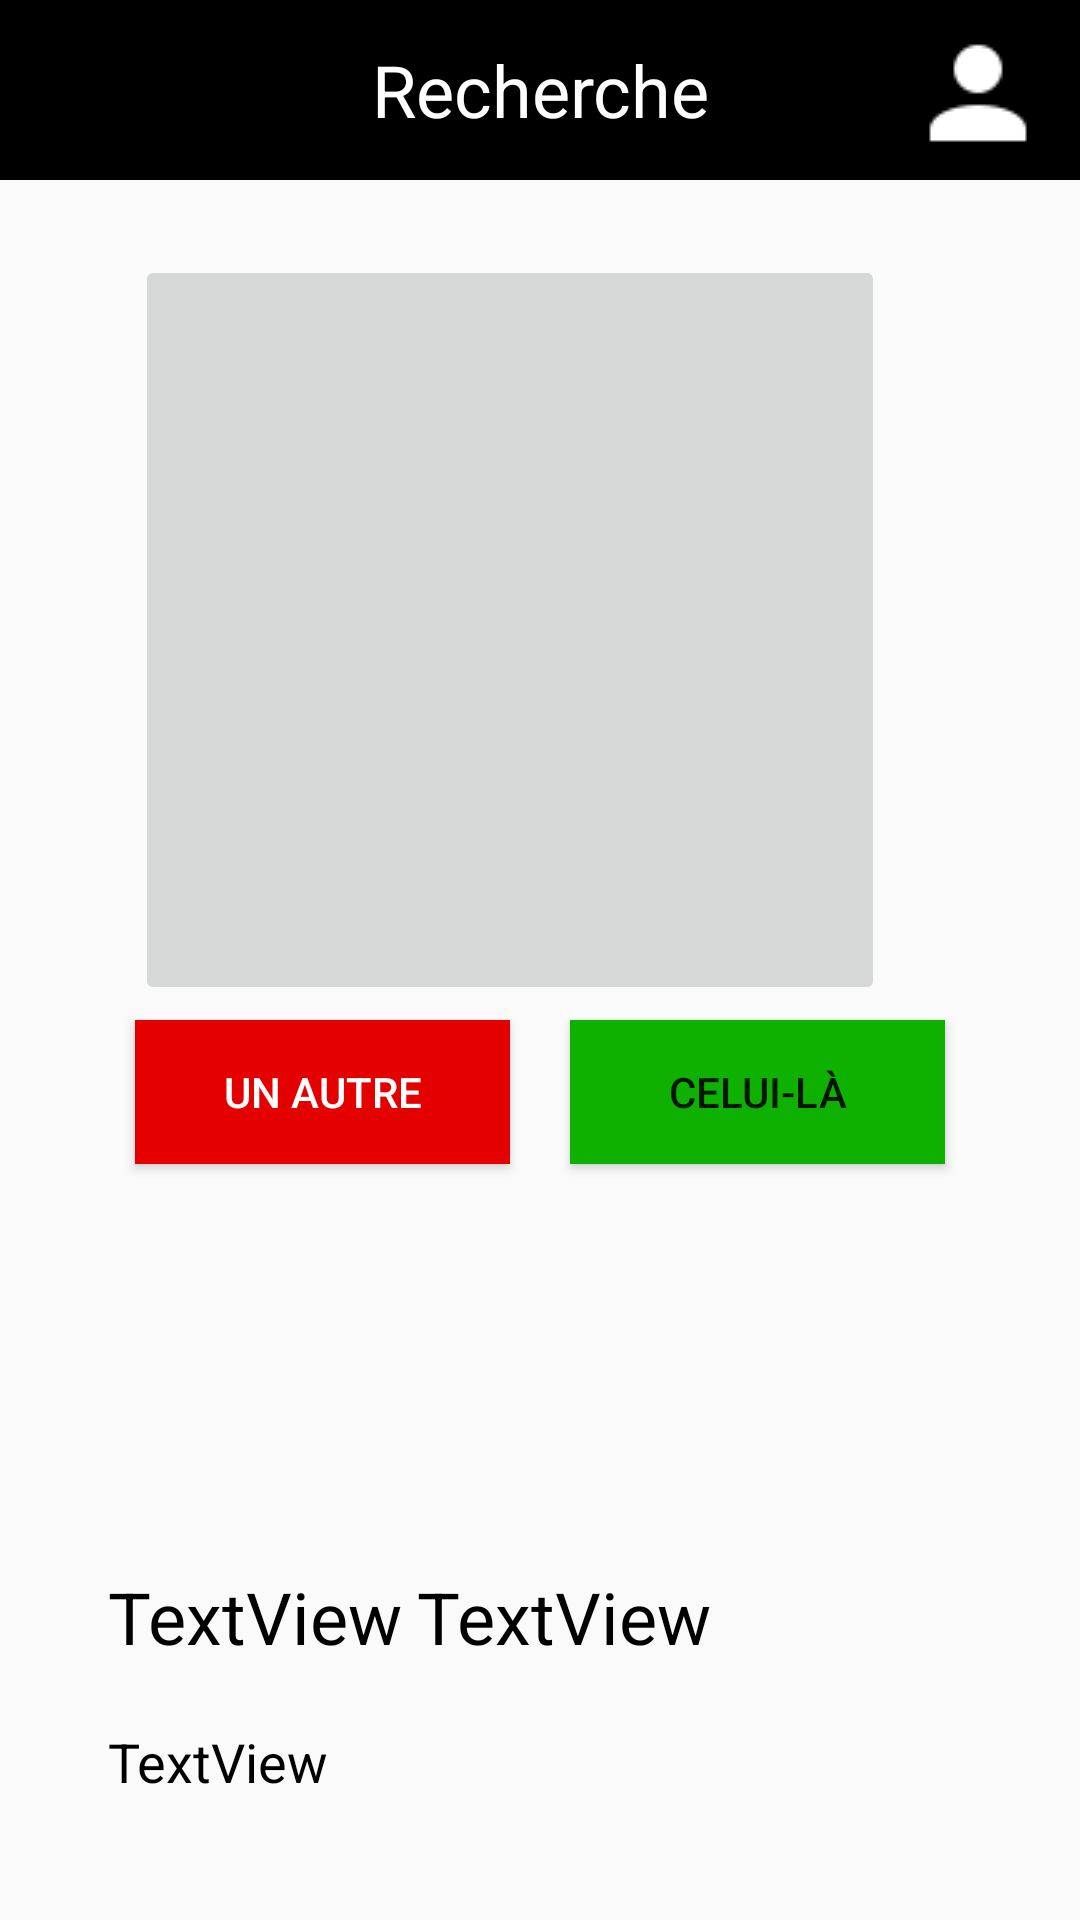

Point at icon controls on the screen. Image size 1080px×1920px, points as point (x, y).
account: point (978, 93)
